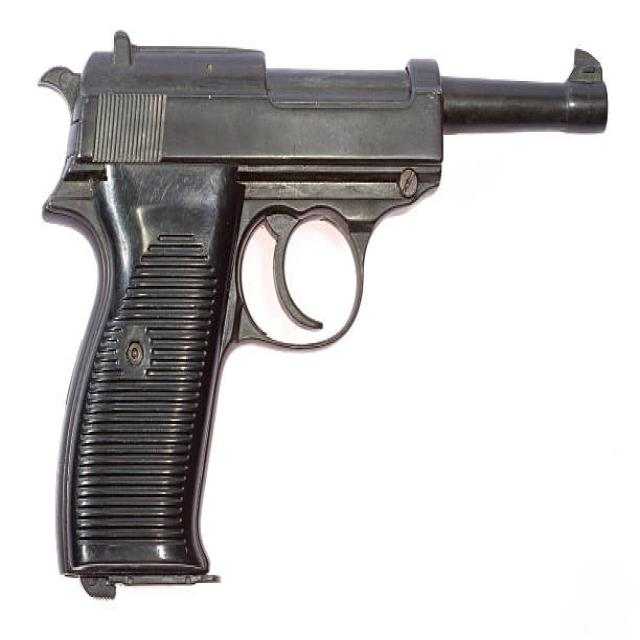pistol: (36, 21, 611, 606)
